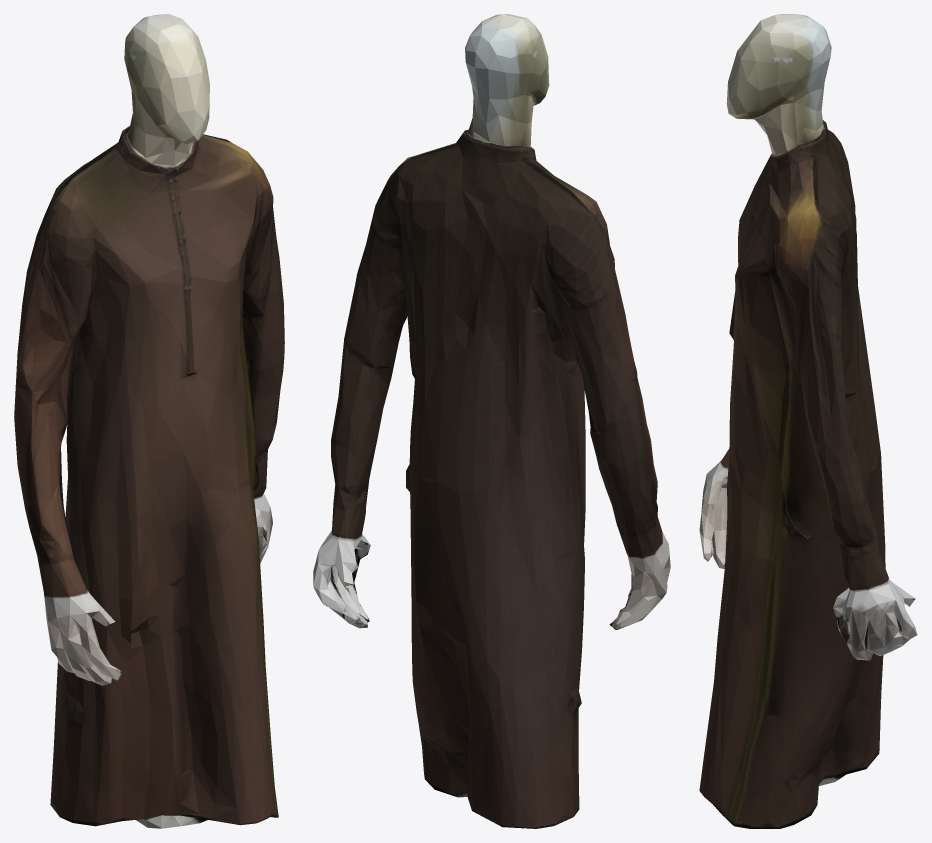
The model's file is sample5.gltf.
3 renders of one model, left to right at view 1: azimuth 30°, elevation 25°; view 2: azimuth 150°, elevation 25°; view 3: azimuth 270°, elevation 25°, orthographic. The views are drawn at different scales.
Parts seen in each view (by area): view 1: world; view 2: world; view 3: world.
Part boxes in pixels (<box>): world: <box>14,14,284,828</box>; world: <box>313,14,670,828</box>; world: <box>699,14,917,828</box>.
Bounding box in the file's own units: 0.3784 × 0.9991 × 0.2569.
Materials: 1 (1 with a texture image).
